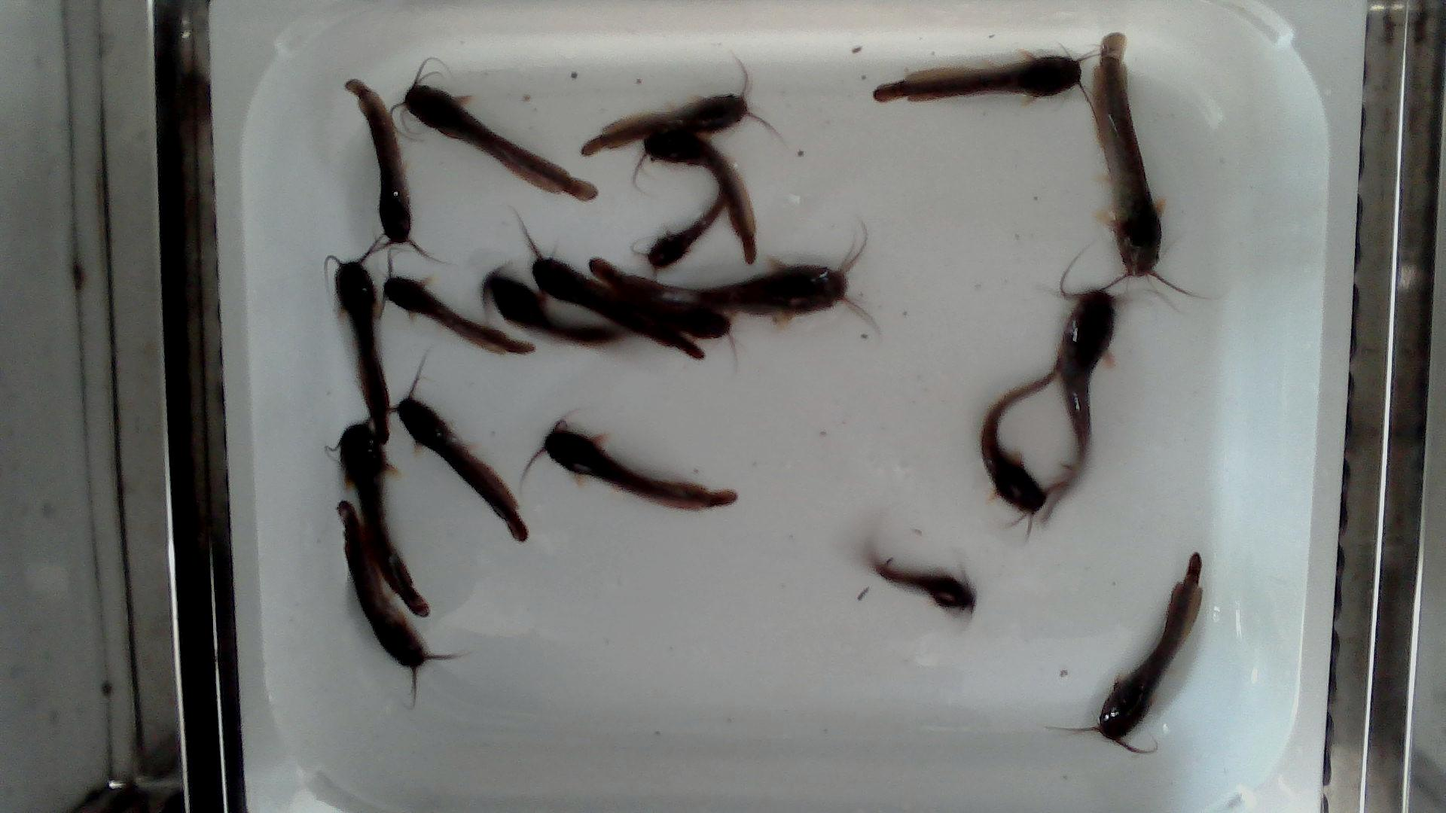lele: (1092, 33, 1226, 300), (587, 218, 884, 338), (389, 57, 596, 201), (511, 210, 704, 361), (1055, 553, 1201, 752), (337, 501, 471, 711), (391, 350, 529, 543), (520, 407, 740, 513), (580, 56, 788, 158), (629, 130, 762, 270), (341, 421, 432, 618), (346, 80, 444, 262), (872, 48, 1101, 123), (381, 249, 537, 356), (978, 373, 1069, 545), (1056, 240, 1121, 474), (323, 253, 394, 445), (604, 285, 741, 376), (481, 263, 625, 349), (626, 189, 726, 281), (871, 552, 975, 611)
